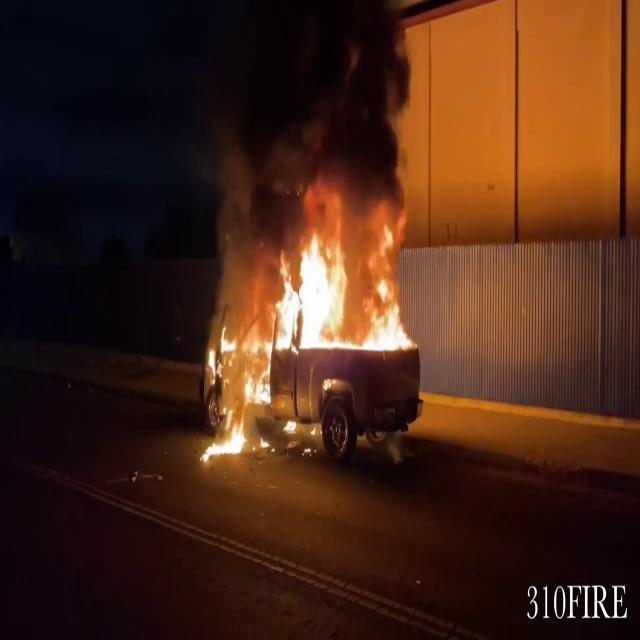Fire: (208, 198, 414, 450)
Smoke: (194, 0, 426, 239)
